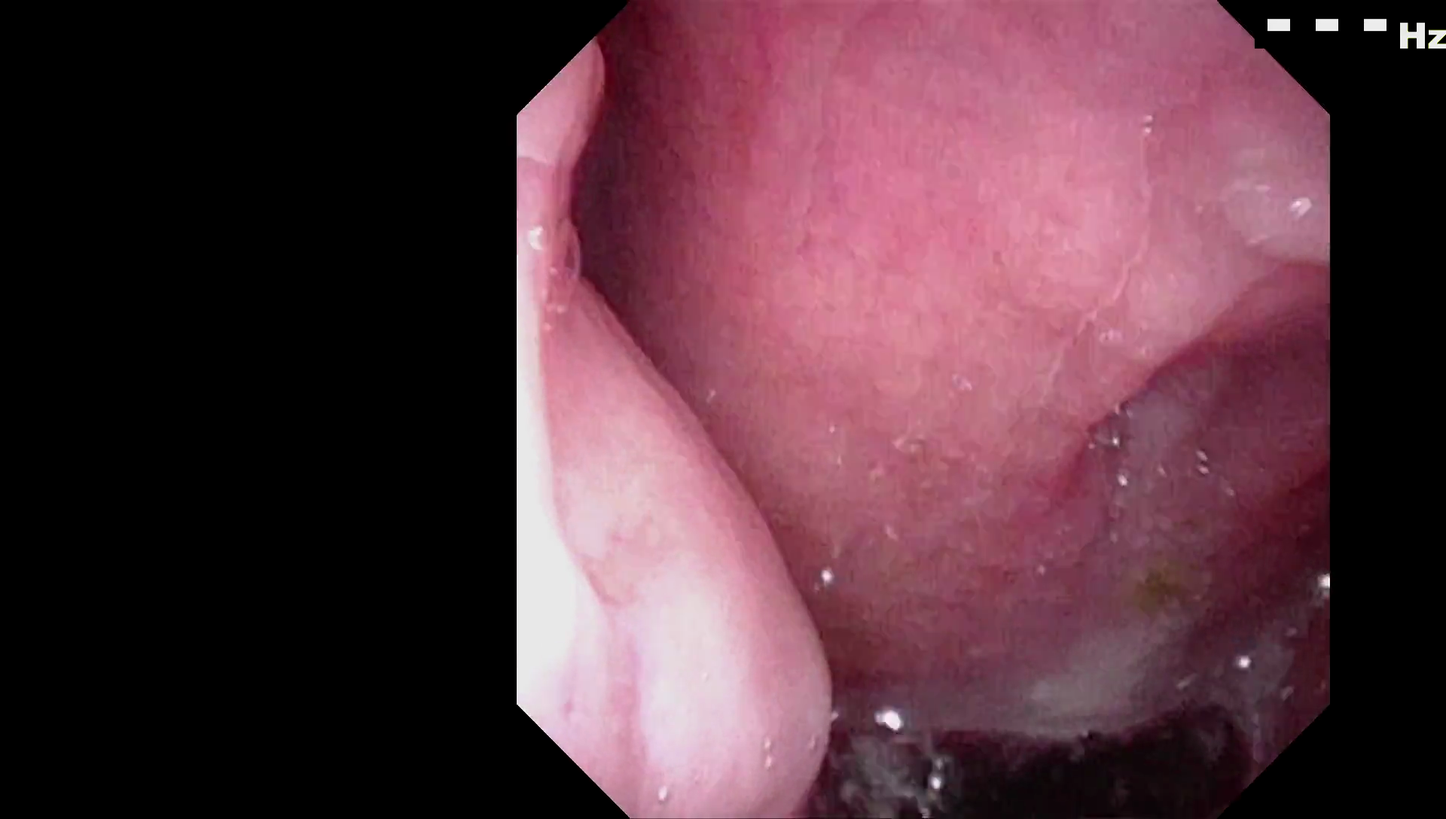close_wall: (517, 130, 776, 794)
next: (801, 662, 1263, 819)
